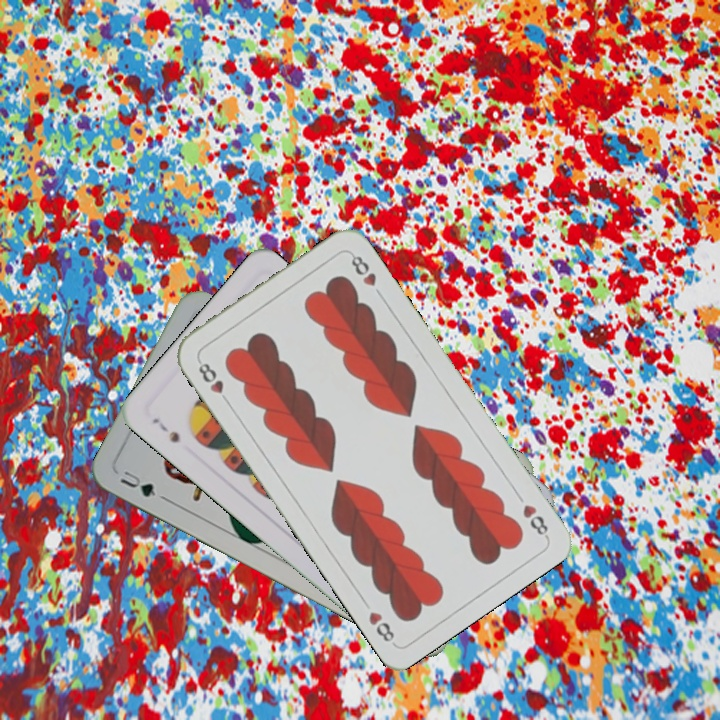GU: (116, 466, 159, 500)
H8: (194, 356, 233, 407), (518, 500, 551, 540)
S7: (148, 413, 182, 446)
